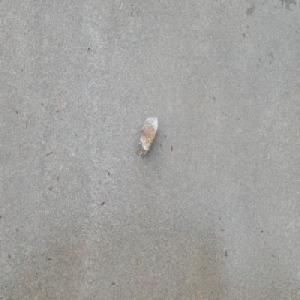Rock: (138, 114, 158, 160)
